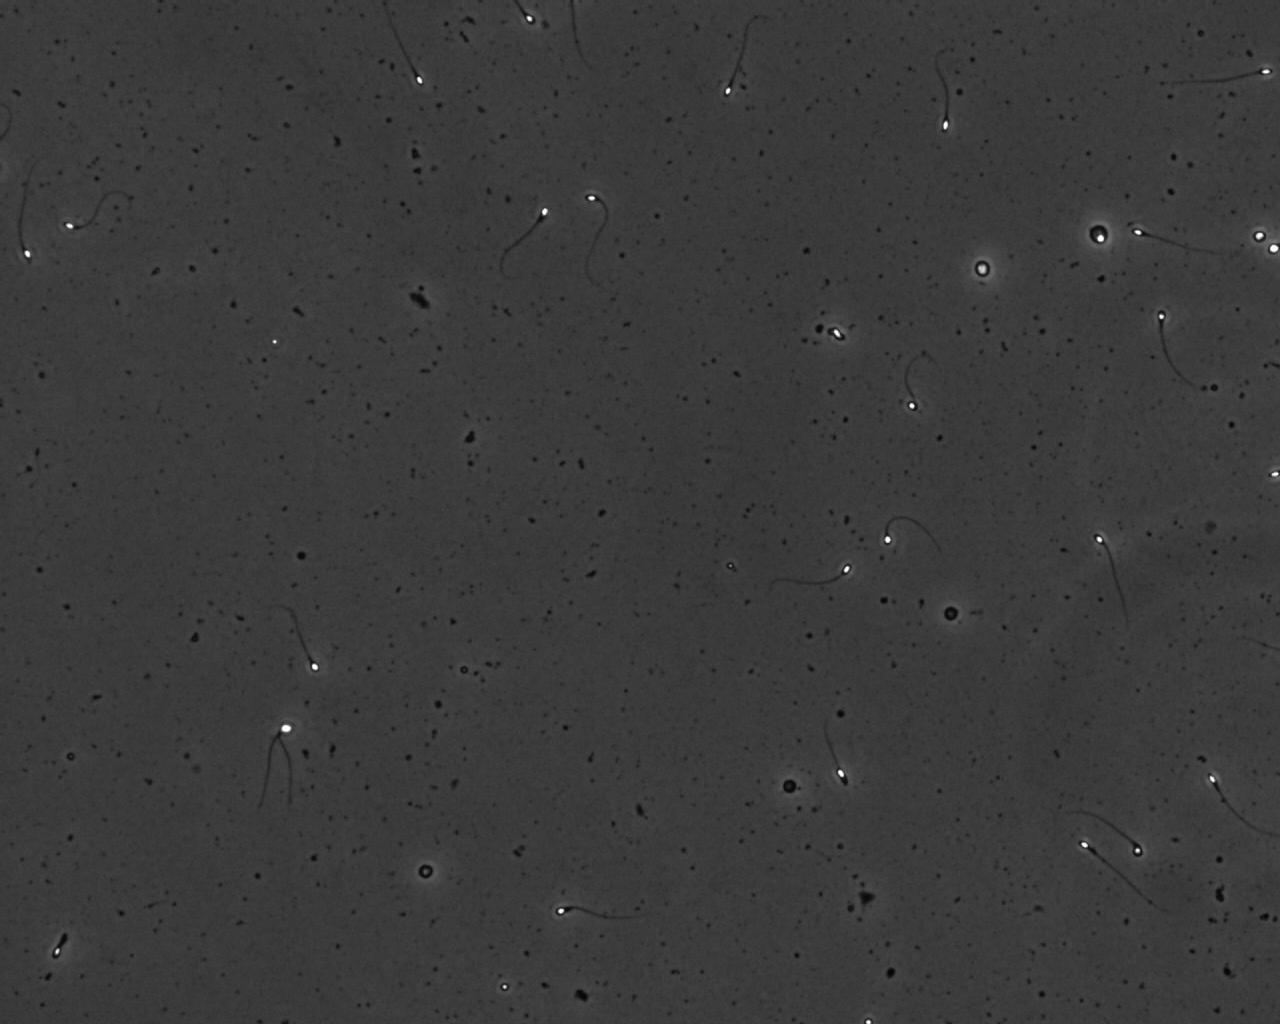cell: (1085, 222, 1113, 248), (970, 256, 994, 282), (778, 774, 801, 797), (940, 602, 962, 625), (414, 860, 437, 882)
